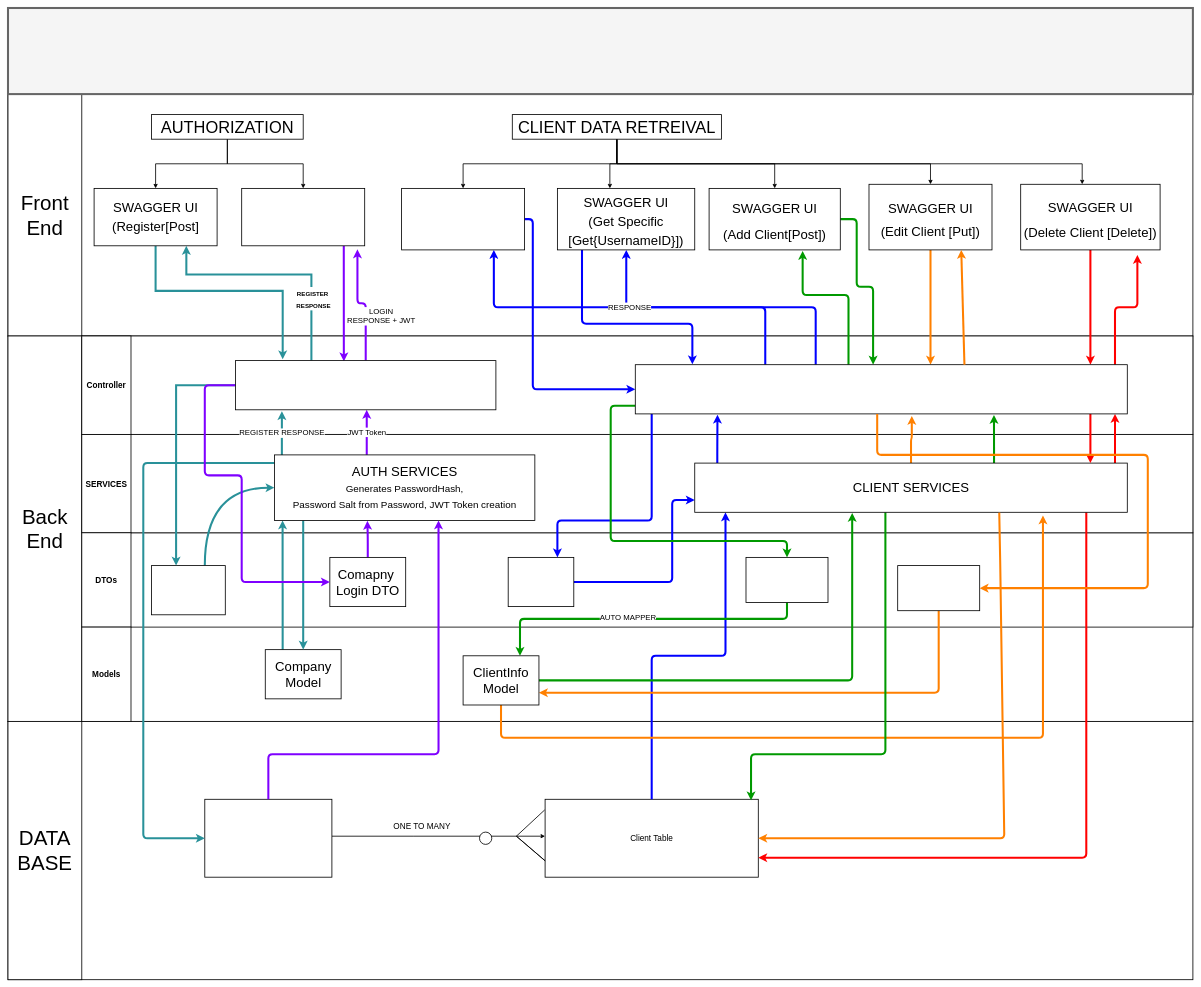
This 1201x987 diagram has some shape labels left out. The shapes that lost their labels are listed below. From the top down, each one's centre as x and y in pixels, then its label:
the point at 600,51: API PROJECT USING DOT NET WEB API
the point at 303,217: SWAGGER UI (Login[Post])
the point at 463,219: SWAGGER UI (Get All[Get])
the point at 365,385: AUTH CONTROLLER
the point at 881,389: CLIENT CONTROLLER
the point at 188,590: Company Register DTO
the point at 541,582: GetClient DTO
the point at 786,580: AddCleint DTO
the point at 938,588: UpdateCleint DTO
the point at 268,838: Company Table
